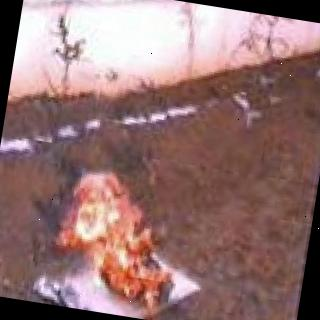fire: (50, 167, 193, 320)
